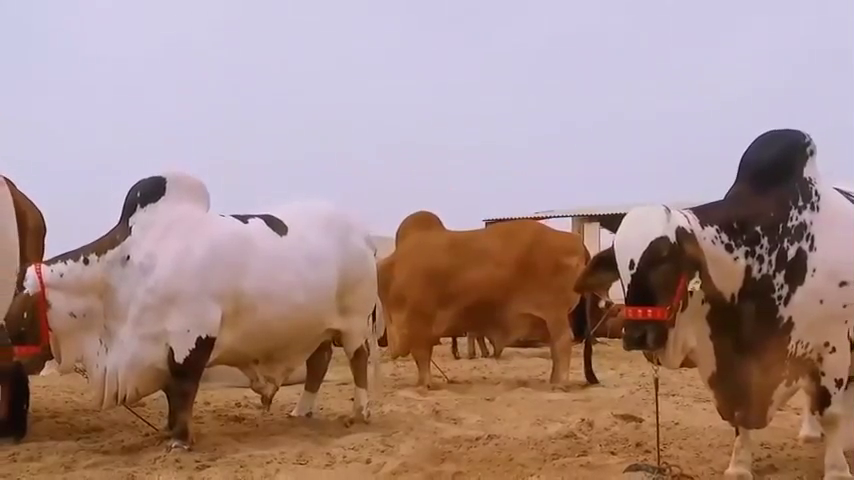bo: (18, 151, 379, 476), (570, 113, 854, 475), (361, 199, 603, 400)
